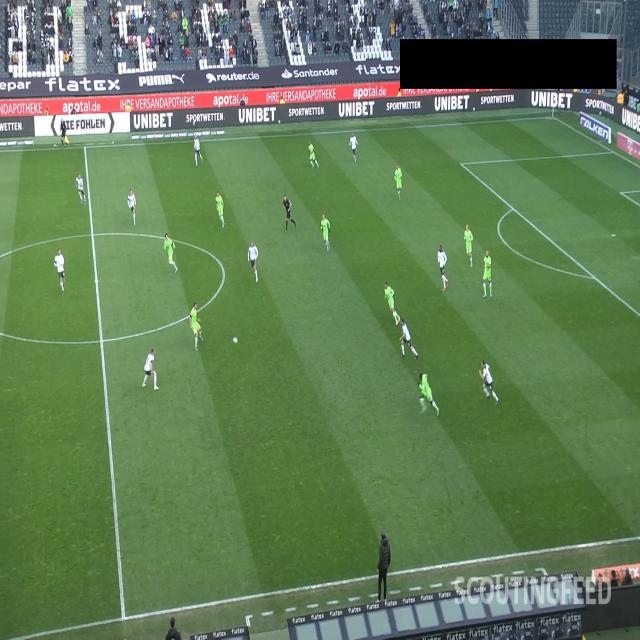ball: (232, 336, 239, 344)
